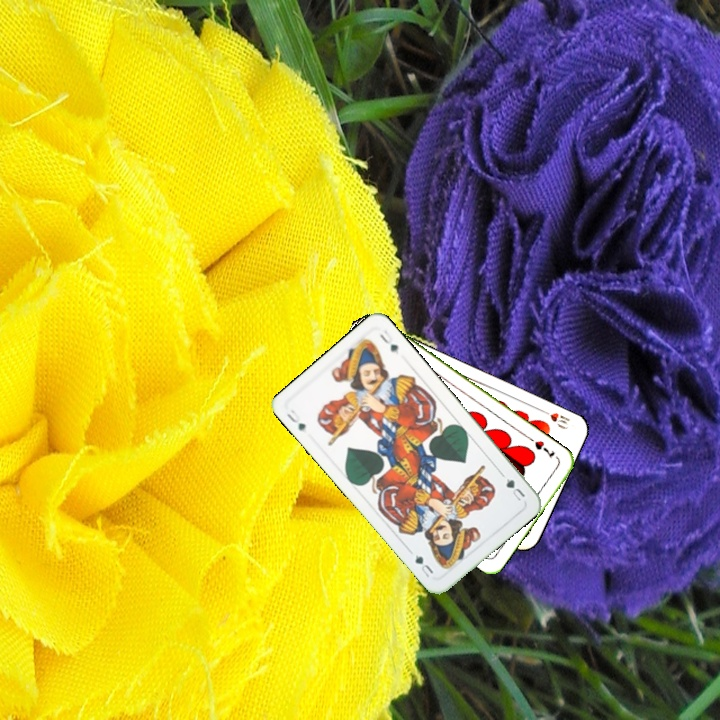GU: (502, 474, 528, 505), (283, 405, 308, 434)
H10: (536, 405, 573, 432)
H7: (530, 436, 558, 461)
